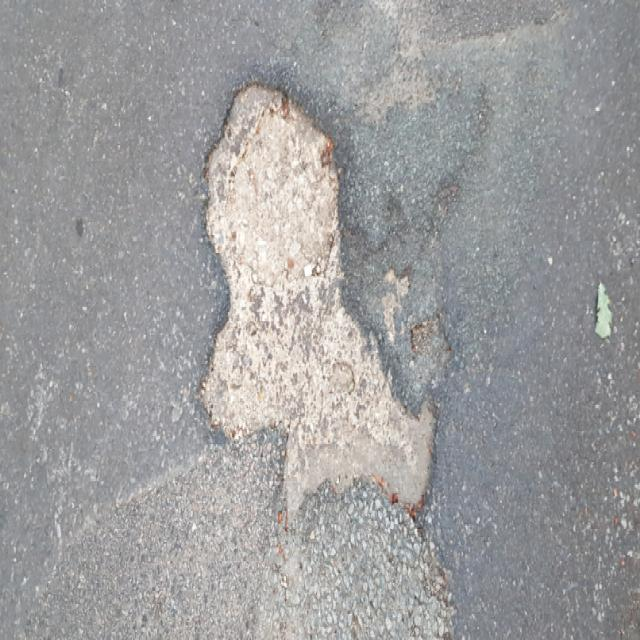Pothole: (192, 68, 440, 538)
